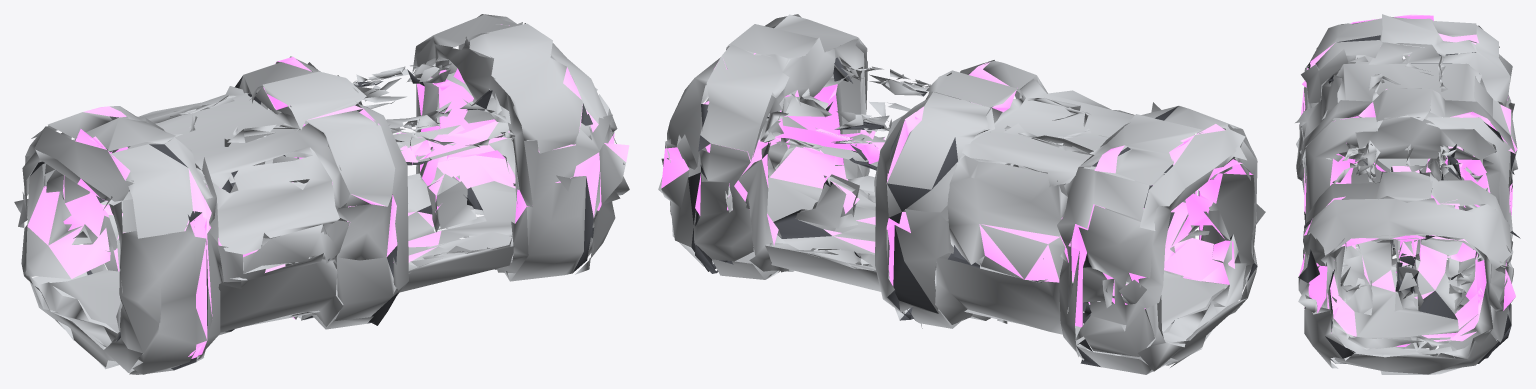
File: SM_MaintenanceBay_v1_slots.fbx
3 views of the same model, side by side, from view 1: azimuth 30°, elevation 25°; view 2: azimuth 150°, elevation 25°; view 3: azimuth 270°, elevation 25° (orthographic). The views are drawn at different scales.
Visible parts, largest first — view 1: SM_MaintenanceBay; view 2: SM_MaintenanceBay; view 3: SM_MaintenanceBay.
Part boxes in pixels (box(x1,y1,x2,y2)): SM_MaintenanceBay: box(14, 14, 629, 374); SM_MaintenanceBay: box(658, 14, 1265, 374); SM_MaintenanceBay: box(1295, 14, 1520, 374).
Size of the model in its own units: 1.94 by 0.8158 by 0.9147.
